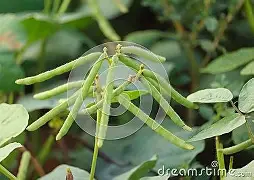crops: (0, 0, 250, 177)
